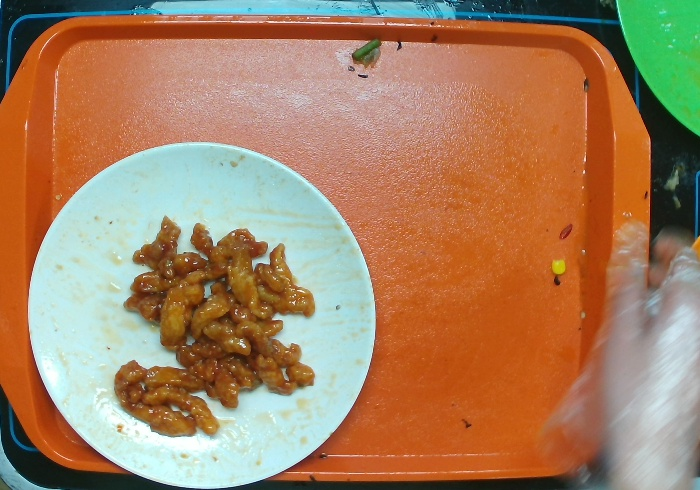HZYJPL-Bai_Se_Yuan_Pan: (24, 138, 377, 490)
